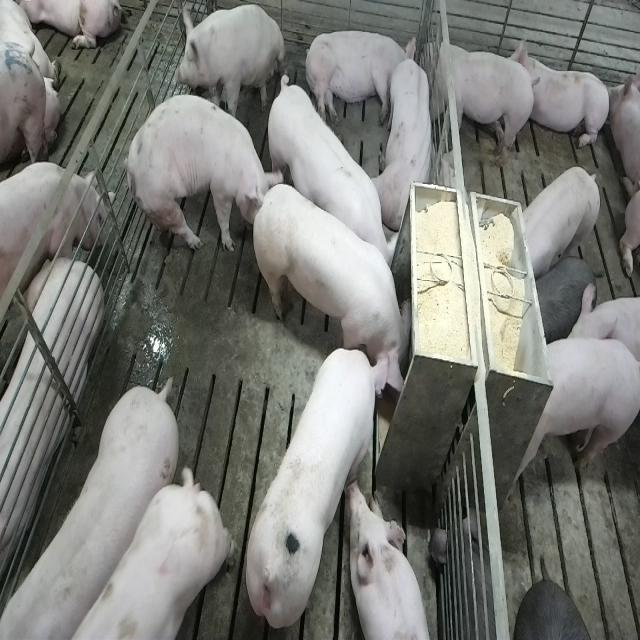Feeding: (244, 342, 392, 630), (247, 171, 411, 391)
Lateral_lying: (0, 250, 102, 612), (303, 28, 417, 128)
Sitting: (175, 5, 286, 126)
Standing: (0, 380, 177, 640), (24, 469, 231, 640), (264, 72, 397, 284), (120, 91, 278, 259), (507, 336, 638, 494), (421, 32, 536, 172), (0, 164, 106, 305), (516, 166, 602, 280), (532, 254, 599, 342)
Sternal_lying: (348, 482, 432, 640), (519, 34, 611, 154), (375, 55, 437, 231)
